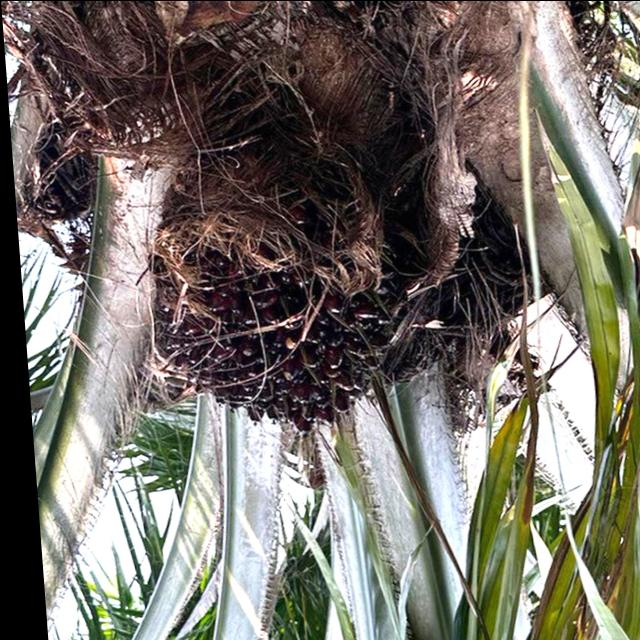ripe: (131, 183, 428, 444)
